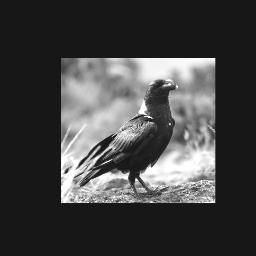Crow: (73, 76, 182, 202)
